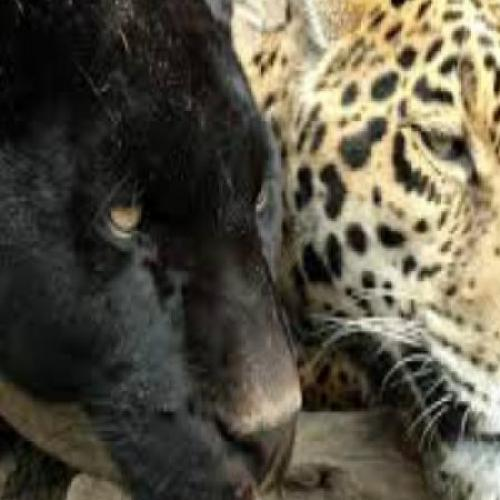panther-endangered: (0, 7, 303, 500)
